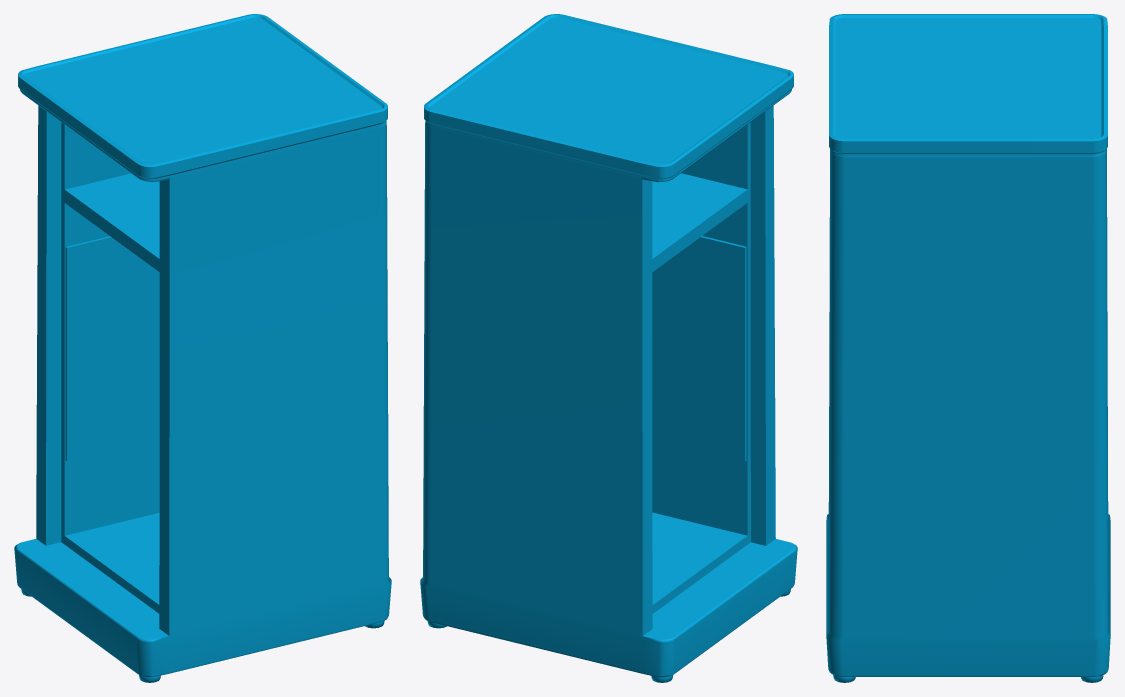
File: House_Fridge_01_Body_Lod0.fbx
3 views of the same model, side by side, from view 1: azimuth 30°, elevation 25°; view 2: azimuth 150°, elevation 25°; view 3: azimuth 270°, elevation 25° (orthographic). The views are drawn at different scales.
Visible parts, largest first — view 1: House_Fridge_01_Body_Lod0; view 2: House_Fridge_01_Body_Lod0; view 3: House_Fridge_01_Body_Lod0.
Boxes of the visible parts, box(x1,y1,x2,y2) form: House_Fridge_01_Body_Lod0: box(14, 14, 391, 682); House_Fridge_01_Body_Lod0: box(420, 14, 797, 682); House_Fridge_01_Body_Lod0: box(826, 14, 1110, 682).
Size of the model in its own units: 65.44 by 128 by 60.63.
